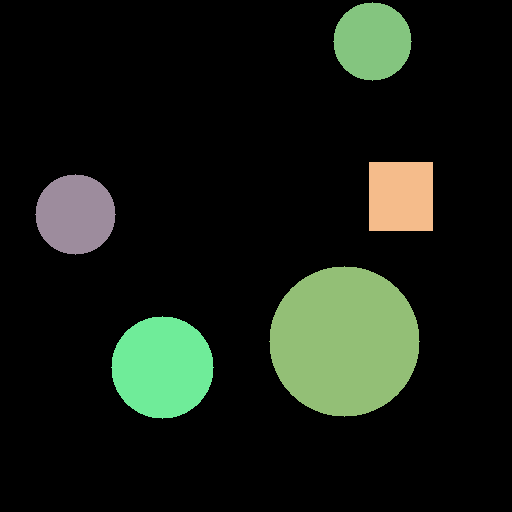circle: (269, 266, 419, 416), (111, 316, 213, 418), (35, 174, 115, 254), (333, 2, 411, 80)
square: (369, 162, 432, 230)
